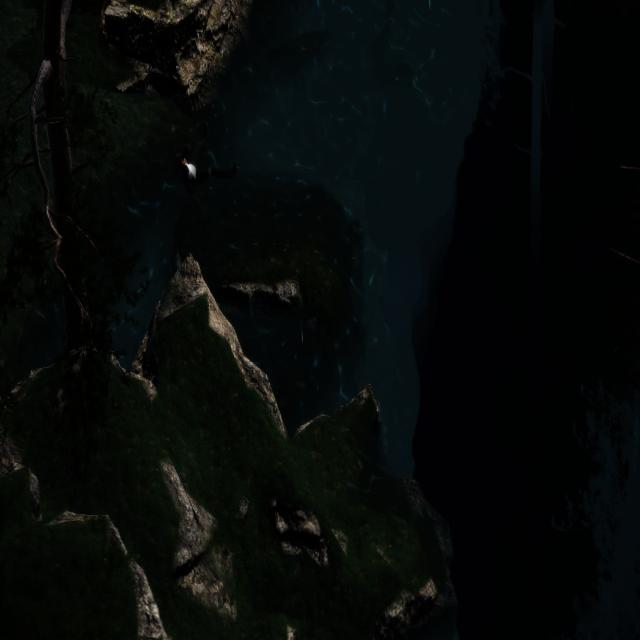Human: (172, 110, 242, 197)
